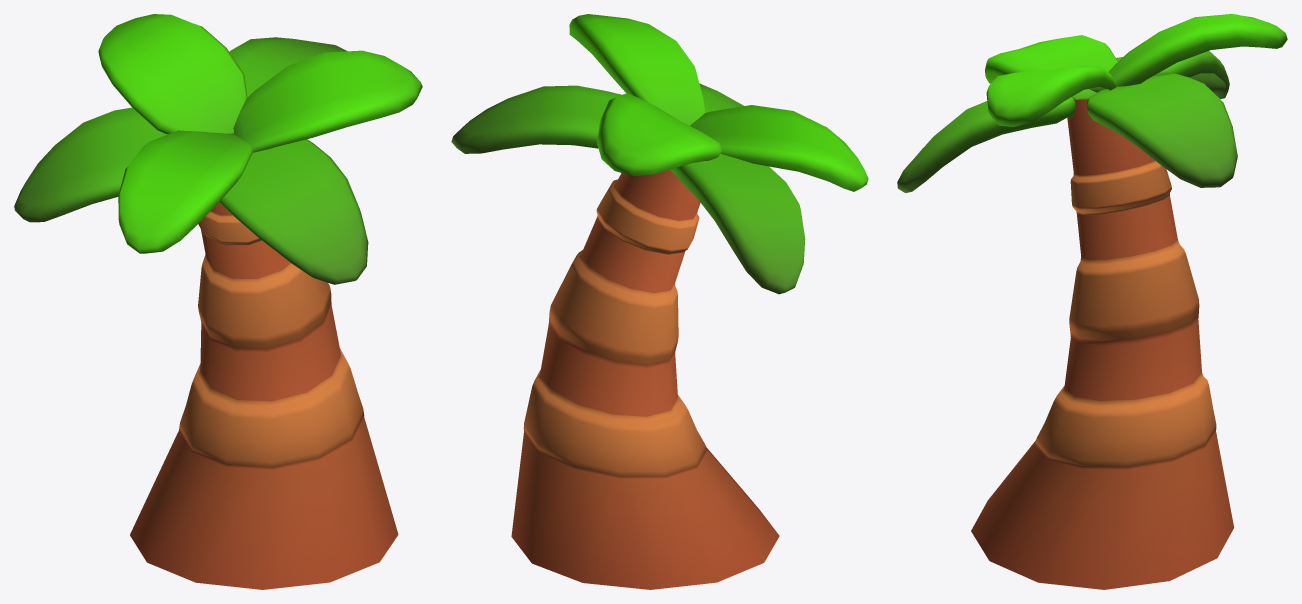
File: Pam_Tree.fbx
3 renders of one model, left to right at view 1: azimuth 30°, elevation 25°; view 2: azimuth 150°, elevation 25°; view 3: azimuth 270°, elevation 25°, orthographic. The views are drawn at different scales.
Visible parts, largest first — view 1: Pam_Tree; view 2: Pam_Tree; view 3: Pam_Tree.
Boxes of the visible parts, <box> form: Pam_Tree: <box>14,14,422,589</box>; Pam_Tree: <box>451,14,868,589</box>; Pam_Tree: <box>897,14,1287,589</box>.
Bounding box in the file's own units: 2.59 × 3.58 × 2.57.
